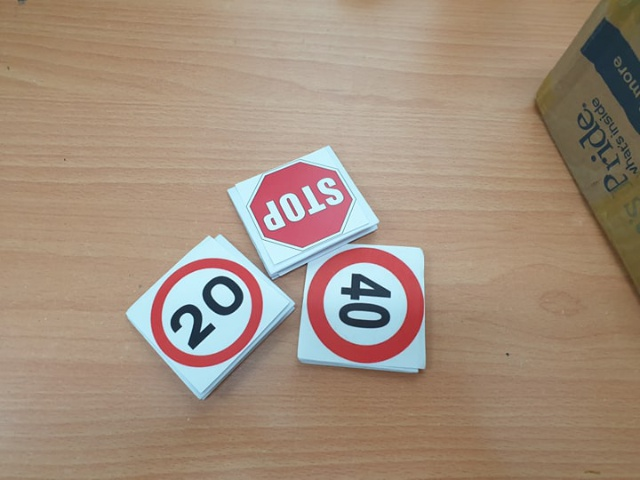Limit 20: (153, 266, 266, 366)
Limit 40: (309, 260, 428, 364)
Stop: (249, 170, 355, 244)
